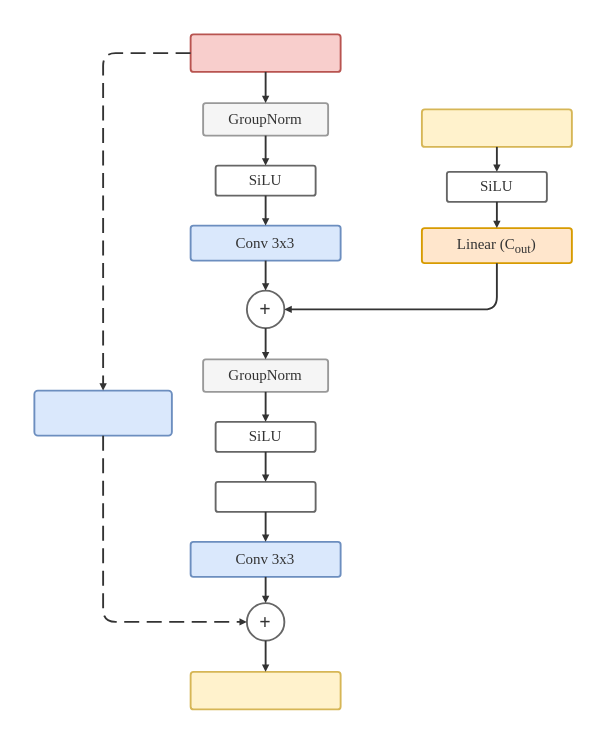
The diagram is 605 pixels wide and 743 high, and some of its shapes have lost their labels. Each missing label, with the centre of its shape:
"Conv 1x1 (if C in ≠ C out )" goes at point 102,412.
"Dropout" goes at point 265,496.
"h (C out )" goes at point 265,690.
"Time embedding" goes at point 496,127.
"x (C in )" goes at point 265,52.
